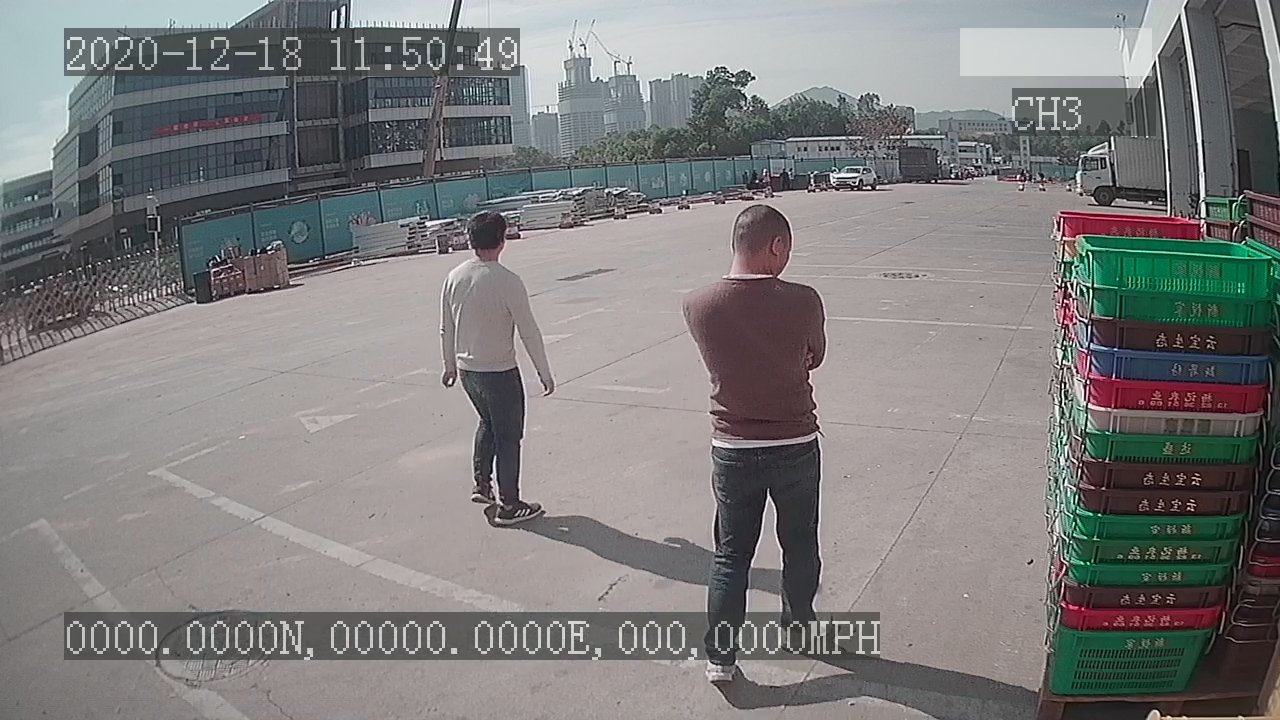person: (436, 208, 561, 529)
